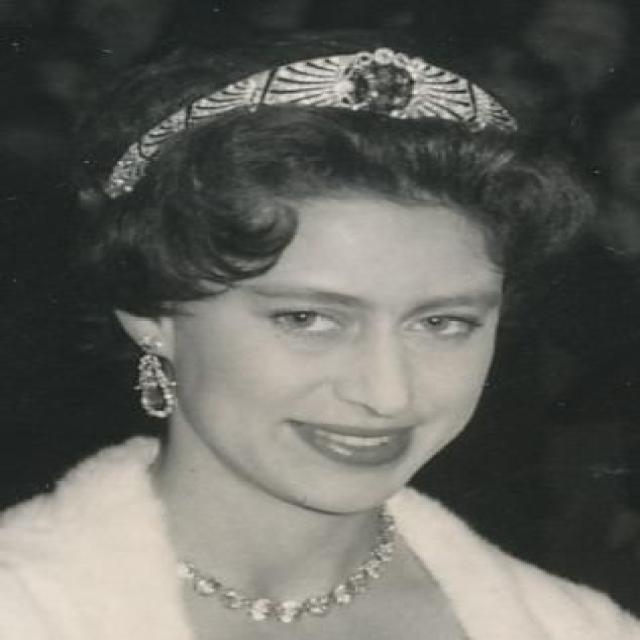Earring: (130, 321, 178, 436)
